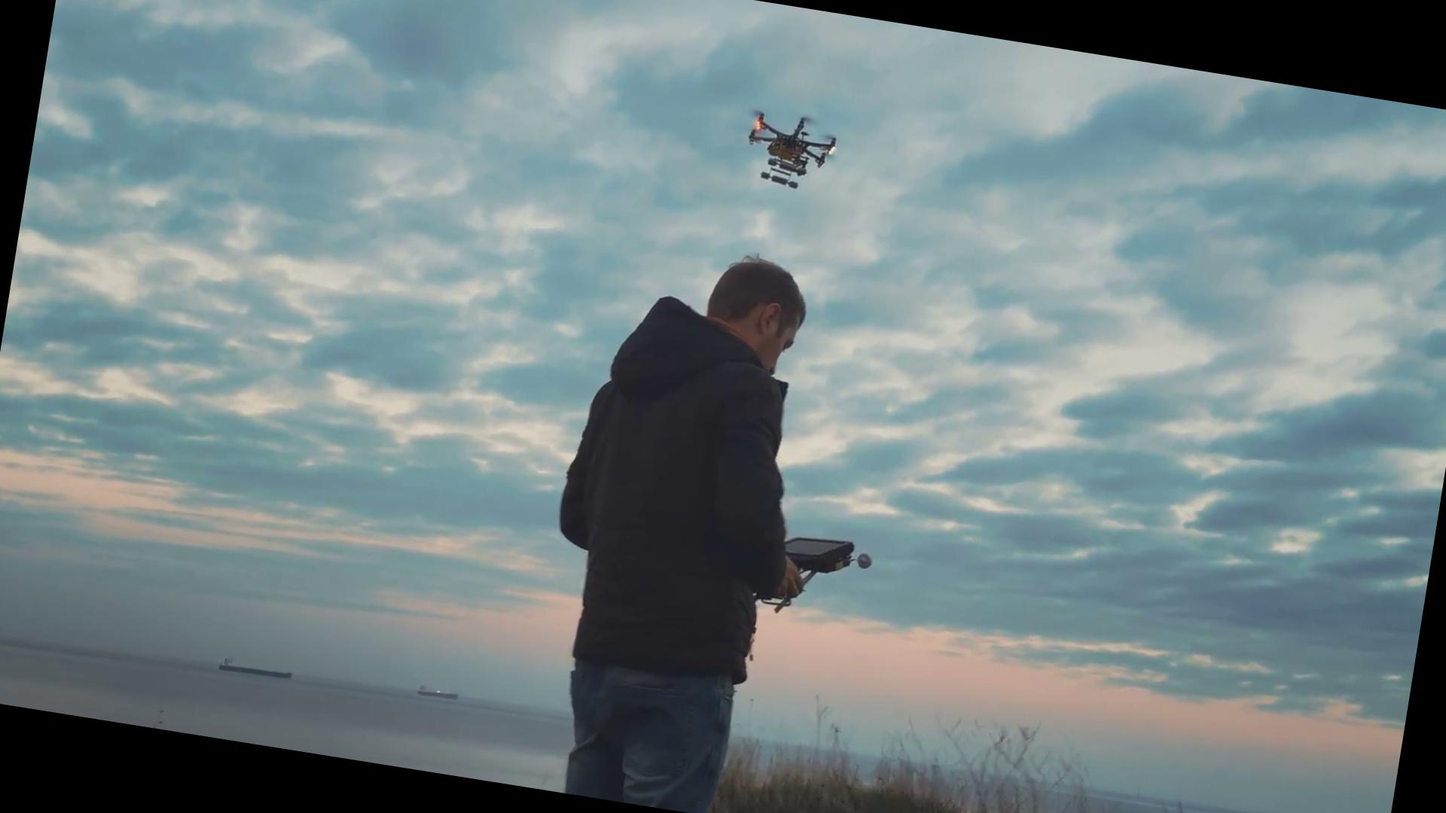drone: (728, 98, 849, 195)
